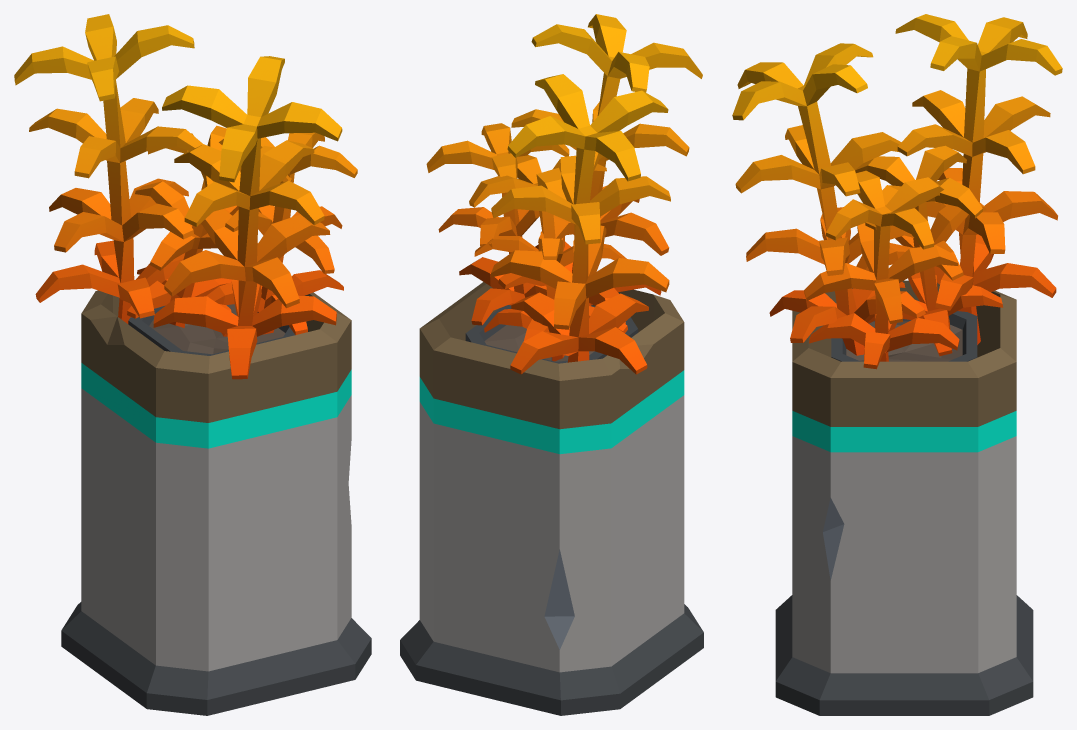
Rendered from SM_Prop_Holo_Planter_02.fbx.
3 views of the same model, side by side, from view 1: azimuth 30°, elevation 25°; view 2: azimuth 150°, elevation 25°; view 3: azimuth 270°, elevation 25° (orthographic). The views are drawn at different scales.
Visible parts, largest first — view 1: SM_Prop_Holo_Planter_02, SM_Prop_Holo_Planter_02_Foliage; view 2: SM_Prop_Holo_Planter_02, SM_Prop_Holo_Planter_02_Foliage; view 3: SM_Prop_Holo_Planter_02, SM_Prop_Holo_Planter_02_Foliage.
Part boxes in pixels (<box>): SM_Prop_Holo_Planter_02: <box>61,290,371,715</box>; SM_Prop_Holo_Planter_02_Foliage: <box>14,14,357,379</box>; SM_Prop_Holo_Planter_02: <box>400,282,703,715</box>; SM_Prop_Holo_Planter_02_Foliage: <box>426,14,702,374</box>; SM_Prop_Holo_Planter_02: <box>775,280,1033,715</box>; SM_Prop_Holo_Planter_02_Foliage: <box>732,14,1062,369</box>.
Bounding box in the file's own units: 74.61 × 164 × 81.21.
